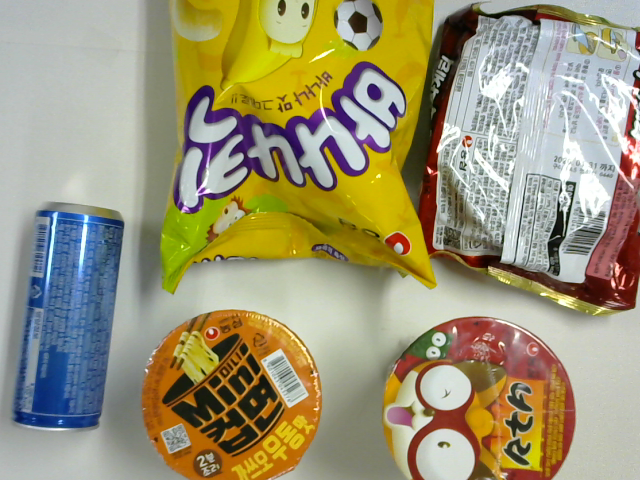Banana_Kick: (155, 1, 436, 296)
Pepsi_Cola_Can_250ml: (9, 201, 126, 434)
Raccoon: (382, 315, 576, 480)
Sichuan_Chapaghetti: (416, 1, 639, 318)
Udongmini: (140, 310, 323, 480)
